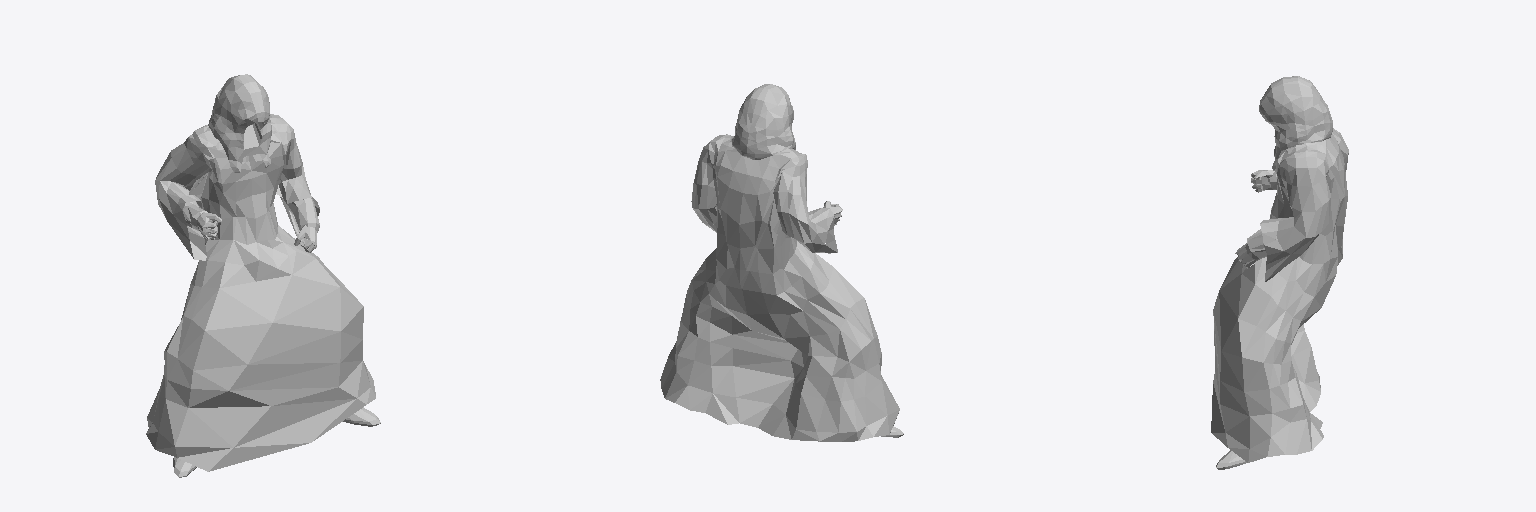
File: Fellbeast_Animate_Flying_28.obj
3 renders of one model, left to right at view 1: azimuth 30°, elevation 25°; view 2: azimuth 150°, elevation 25°; view 3: azimuth 270°, elevation 25°, orthographic.
Visible parts, largest first — view 1: dm_nazgulrobe_ride_241108; view 2: dm_nazgulrobe_ride_241108; view 3: dm_nazgulrobe_ride_241108.
Part boxes in pixels (x1,y1,x2,y2): dm_nazgulrobe_ride_241108: (146,74,380,477); dm_nazgulrobe_ride_241108: (660,84,903,441); dm_nazgulrobe_ride_241108: (1211,76,1348,469).
Bounding box in the file's own units: 0.4417 × 0.6676 × 0.2371.